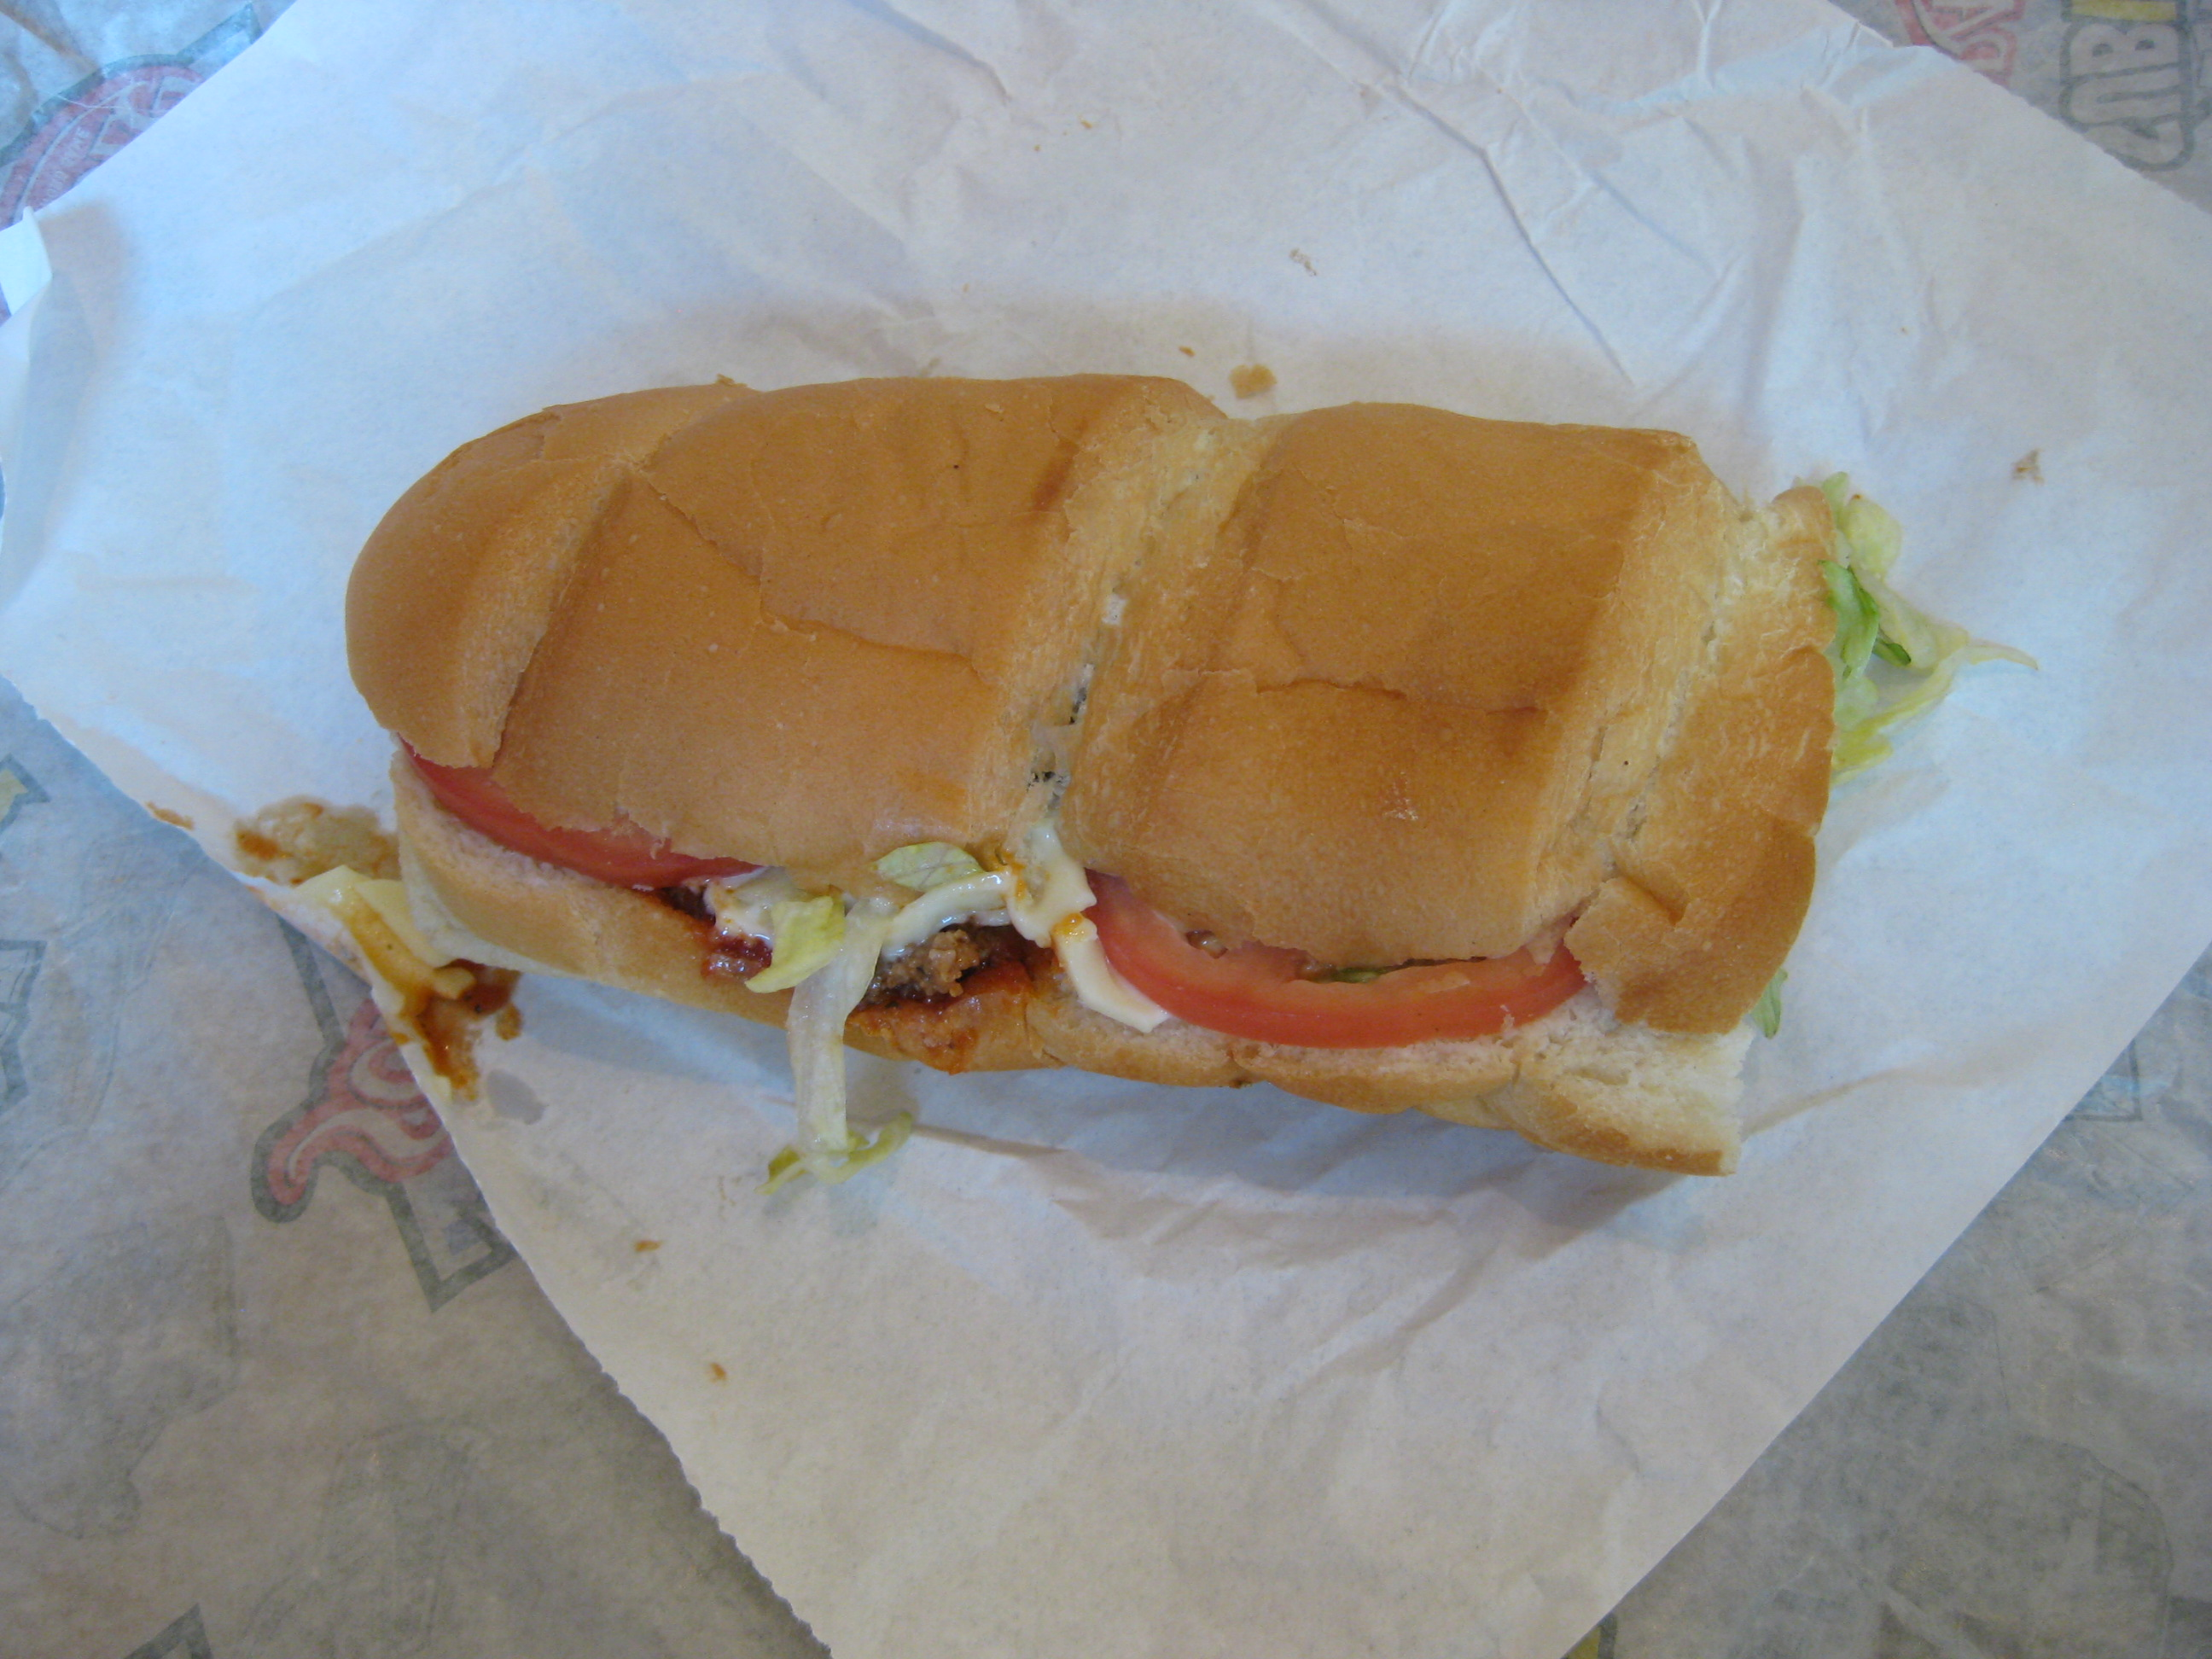sub: (341, 341, 1881, 1196)
